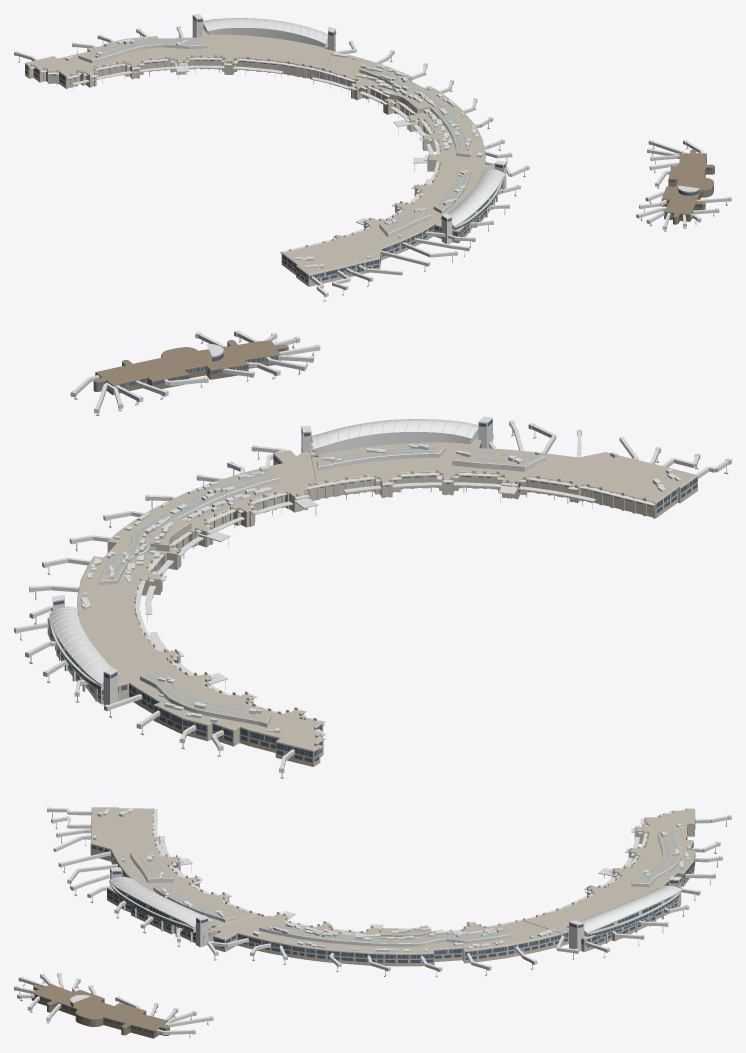
File: dal-dfw-terminal-e.detail.glb
3 renders of one model, top to bottom at view 1: azimuth 30°, elevation 25°; view 2: azimuth 150°, elevation 25°; view 3: azimuth 270°, elevation 25°, orthographic. The views are drawn at different scales.
Parts seen in each view (by area): view 1: DFW Airport Terminal E; view 2: DFW Airport Terminal E; view 3: DFW Airport Terminal E.
Boxes of the visible parts, box(x1,y1,x2,y2) form: DFW Airport Terminal E: box(14, 14, 731, 301); DFW Airport Terminal E: box(14, 330, 731, 778); DFW Airport Terminal E: box(14, 807, 731, 1038).
Size of the model in its own units: 498 by 28.9 by 682.
